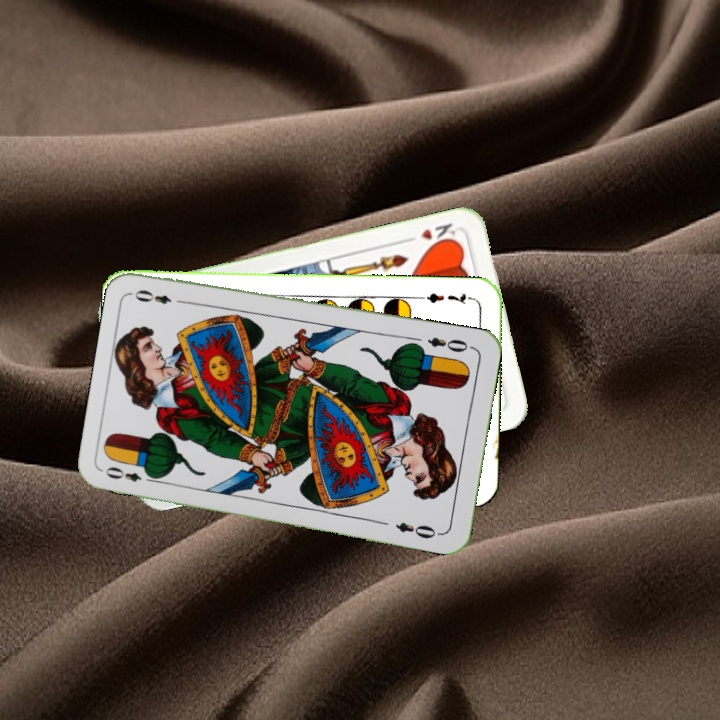E7: (417, 288, 476, 307)
EO: (101, 463, 160, 486), (423, 332, 476, 355)
HK: (401, 218, 459, 249)
